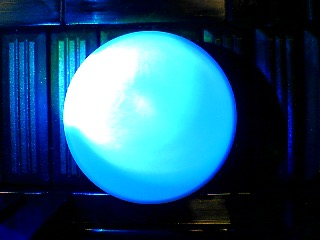BLANK: (62, 30, 238, 204)
